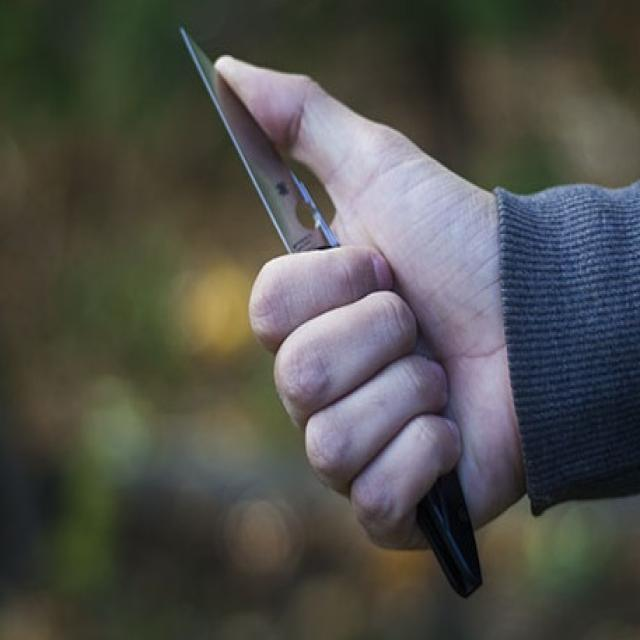knife: (180, 17, 322, 268)
